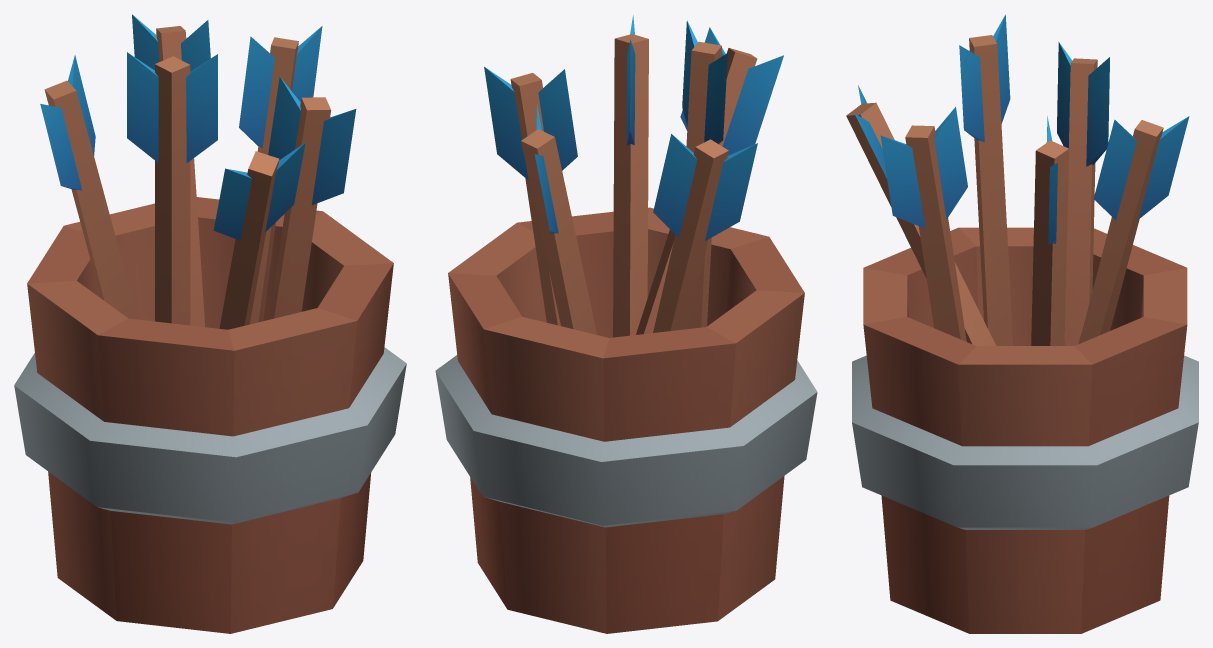
File: bucket_arrows.gltf
3 views of the same model, side by side, from view 1: azimuth 30°, elevation 25°; view 2: azimuth 150°, elevation 25°; view 3: azimuth 270°, elevation 25° (orthographic). The views are drawn at different scales.
Visible parts, largest first — view 1: bucket_arrows; view 2: bucket_arrows; view 3: bucket_arrows.
Part boxes in pixels (x1,y1,x2,y2): bucket_arrows: [14, 14, 406, 633]; bucket_arrows: [435, 15, 817, 633]; bucket_arrows: [846, 14, 1198, 633].
Bounding box in the file's own units: 0.14 × 0.2313 × 0.1423.
1 material, 1 textured.
